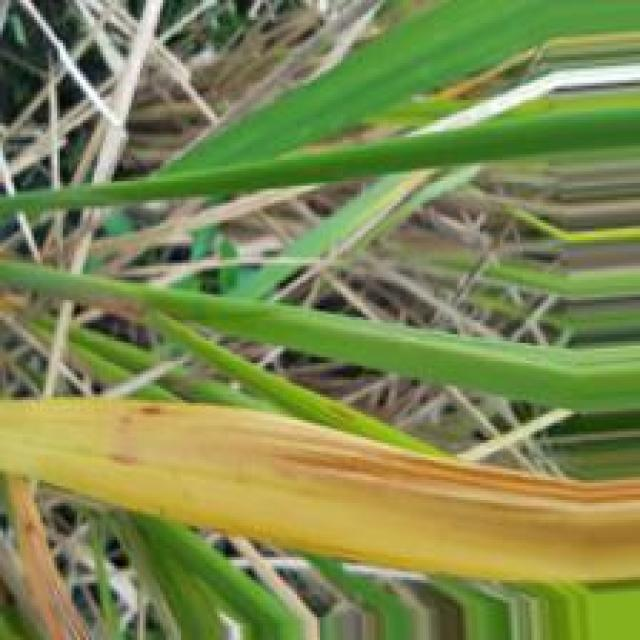Narrow_Brown_Leaf_Spot: (3, 397, 640, 587)
